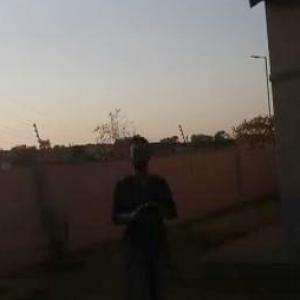follow: (105, 125, 190, 299)
